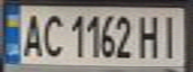1: (66, 10, 87, 57), (84, 11, 100, 58)
2: (115, 11, 136, 60)
6: (100, 11, 118, 60)
A: (18, 9, 45, 58)
C: (39, 10, 66, 60)
H: (136, 11, 163, 60)
I: (154, 11, 184, 58)
